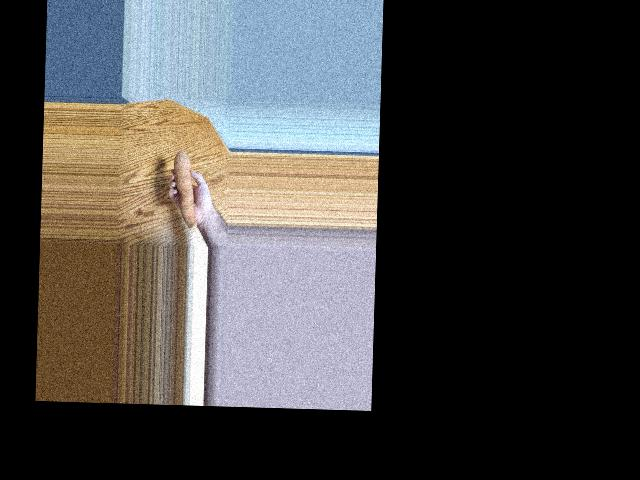sweet_potato: (167, 150, 199, 224)
